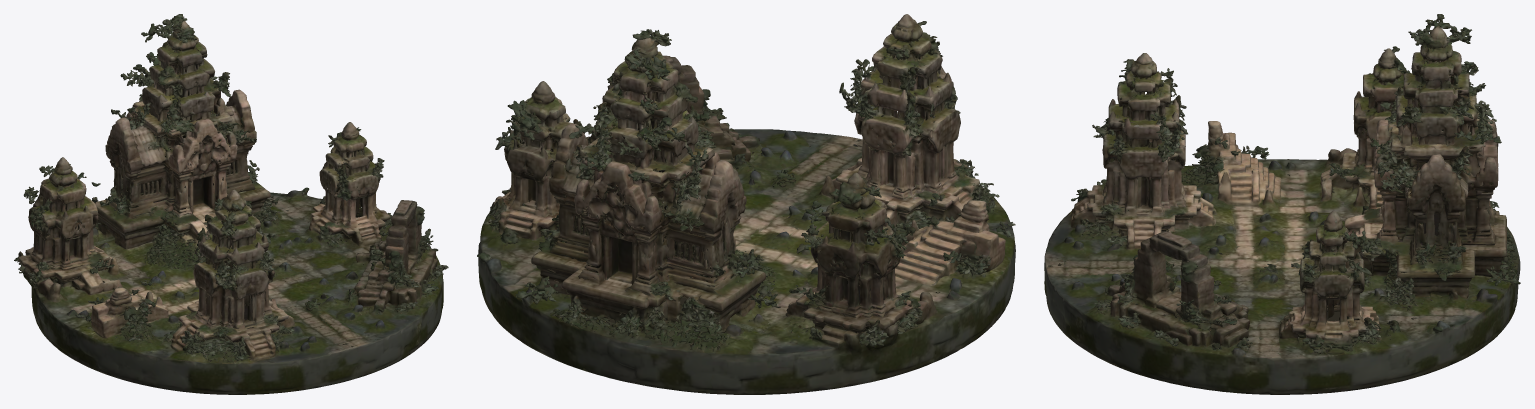
File: ancient.glb
3 views of the same model, side by side, from view 1: azimuth 30°, elevation 25°; view 2: azimuth 150°, elevation 25°; view 3: azimuth 270°, elevation 25° (orthographic). The views are drawn at different scales.
Visible parts, largest first — view 1: world; view 2: world; view 3: world.
Part boxes in pixels (x1,y1,x2,y2): world: (14,14,448,394); world: (477,14,1015,394); world: (1044,14,1520,394).
Bounding box in the file's own units: 1 × 0.6468 × 0.9995.
1 material, 1 textured.
